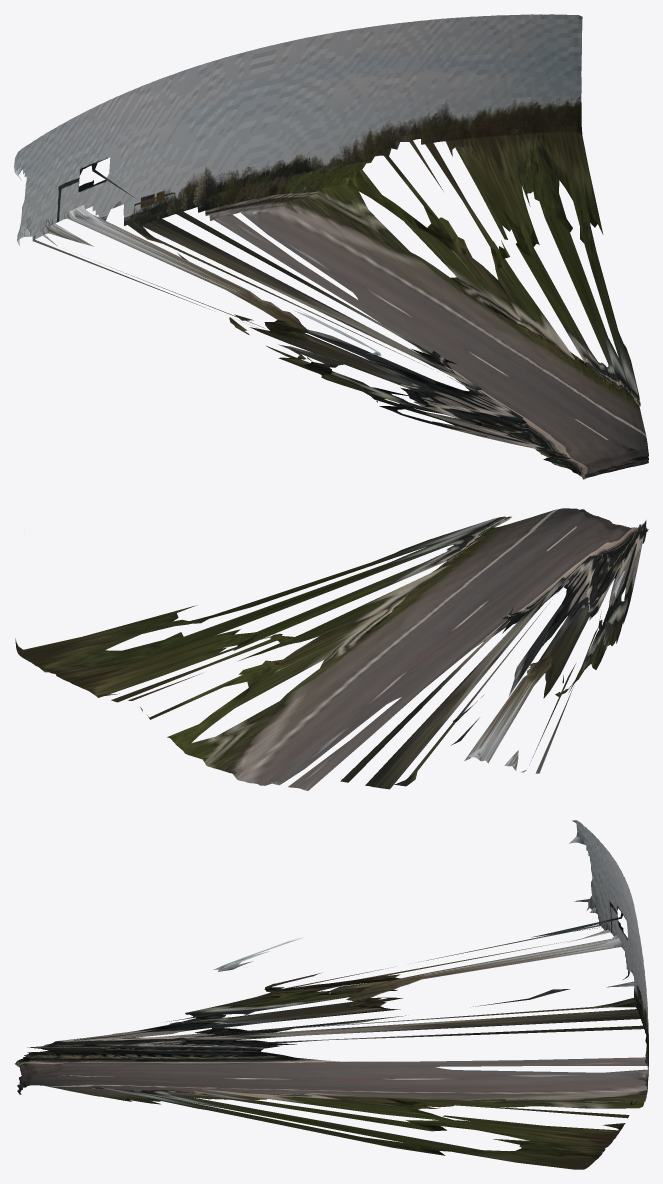
3 views of the same model, one above another, from view 1: azimuth 30°, elevation 25°; view 2: azimuth 150°, elevation 25°; view 3: azimuth 270°, elevation 25° (orthographic). The views are drawn at different scales.
Visible parts, largest first — view 1: defaultobject; view 2: defaultobject; view 3: defaultobject.
Boxes of the visible parts, left/top/right/bottom form: defaultobject: left=14, top=14, right=648, bottom=479; defaultobject: left=15, top=508, right=648, bottom=790; defaultobject: left=15, top=820, right=648, bottom=1169.
Bounding box in the file's own units: 40.86 × 11.71 × 44.54.
Materials: 1 (1 with a texture image).
